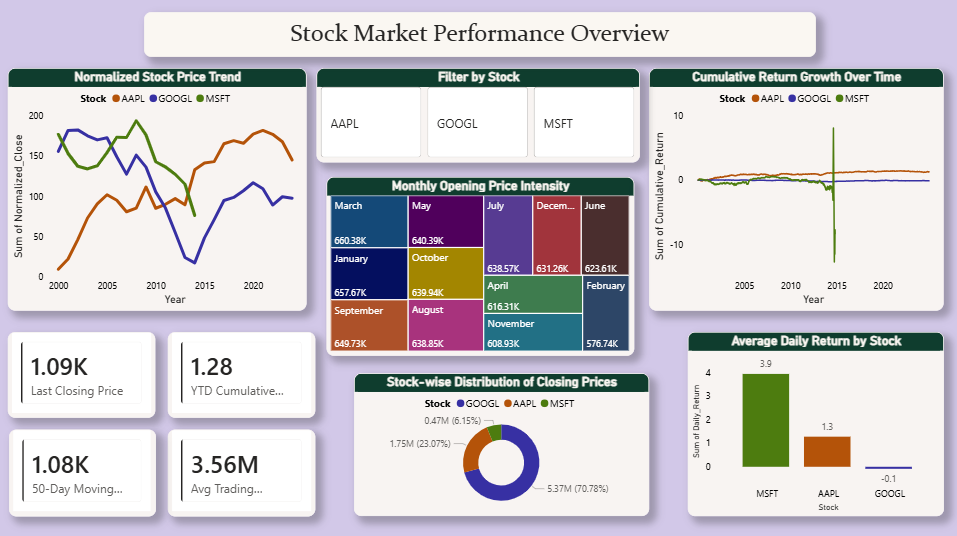

This screenshot's page, from the dashboard's own definition file:
{"tool":"powerbi","page":{"name":"Stock Market Performance Overview","canvas":[1280,720],"ordinal":0},"visuals":[{"type":"lineChart","title":"Normalized Stock Price Trend","fields":{"Category":["cleaned_stock_analytics.Date.Variation.Date Hierarchy.Year","cleaned_stock_analytics.Date.Variation.Date Hierarchy.Quarter","cleaned_stock_analytics.Date.Variation.Date Hierarchy.Month","cleaned_stock_analytics.Date.Variation.Date Hierarchy.Day"],"Series":["cleaned_stock_analytics.Stock"],"Y":["Sum(cleaned_stock_analytics.Normalized_Close)"]},"box":[11.4,94.3,398.6,322.9],"z":0},{"type":"areaChart","title":"Cumulative Return Growth Over Time","fields":{"Series":["cleaned_stock_analytics.Stock"],"Y":["Sum(cleaned_stock_analytics.Cumulative_Return)"],"Category":["cleaned_stock_analytics.Date.Variation.Date Hierarchy.Year","cleaned_stock_analytics.Date.Variation.Date Hierarchy.Quarter","cleaned_stock_analytics.Date.Variation.Date Hierarchy.Month","cleaned_stock_analytics.Date.Variation.Date Hierarchy.Day"]},"box":[867.1,94.3,392.9,322.9],"z":1000},{"type":"clusteredColumnChart","title":"Average Daily Return by Stock","fields":{"Category":["cleaned_stock_analytics.Stock"],"Y":["Sum(cleaned_stock_analytics.Daily_Return)"]},"box":[918.6,447.1,341.4,245.7],"z":2000},{"type":"advancedSlicerVisual","title":"Filter by Stock","fields":{"Values":["cleaned_stock_analytics.Stock"]},"box":[422.9,94.3,431.4,125.7],"z":3000},{"type":"cardVisual","title":"Normalized Stock Price Trend","fields":{"Data":["cleaned_stock_analytics.Last Closing Price"]},"box":[11.4,447.1,197.1,114.3],"z":4000},{"type":"cardVisual","title":"Normalized Stock Price Trend","fields":{"Data":["cleaned_stock_analytics.Cumulative Return (Last)"]},"box":[225.7,447.1,197.1,114.3],"z":5000},{"type":"cardVisual","title":"Normalized Stock Price Trend","fields":{"Data":["Avg(cleaned_stock_analytics.Volume)"]},"box":[225.7,577.1,197.1,115.7],"z":6000},{"type":"cardVisual","title":"Normalized Stock Price Trend","fields":{"Data":["cleaned_stock_analytics.Last MA_50"]},"box":[12.9,577.1,195.7,115.7],"z":7000},{"type":"donutChart","title":"Stock-wise Distribution of Closing Prices","fields":{"Category":["cleaned_stock_analytics.Stock"],"Y":["Sum(cleaned_stock_analytics.Close)"]},"box":[507.1,501.4,318.6,191.4],"z":8000},{"type":"treemap","title":"Monthly Opening Price Intensity","fields":{"Values":["Sum(cleaned_stock_analytics.Open)"],"Group":["cleaned_stock_analytics.Date.Variation.Date Hierarchy.Month","cleaned_stock_analytics.Date.Variation.Date Hierarchy.Day"]},"box":[437.1,240,410,238.6],"z":9000},{"type":"textbox","box":[192.9,20,895.7,60],"z":10000}]}

Visuals, with their boxes in screenshot pixels (x1, y1, x2, y2), scaled from the page's 1280x720 canvas onto the 957x536 screenshot:
"Normalized Stock Price Trend" lineChart: box=[9, 70, 307, 311]
"Cumulative Return Growth Over Time" areaChart: box=[648, 70, 942, 311]
"Average Daily Return by Stock" clusteredColumnChart: box=[687, 333, 942, 516]
"Filter by Stock" advancedSlicerVisual: box=[316, 70, 639, 164]
"Normalized Stock Price Trend" cardVisual: box=[9, 333, 156, 418]
"Normalized Stock Price Trend" cardVisual: box=[169, 333, 316, 418]
"Normalized Stock Price Trend" cardVisual: box=[169, 430, 316, 516]
"Normalized Stock Price Trend" cardVisual: box=[10, 430, 156, 516]
"Stock-wise Distribution of Closing Prices" donutChart: box=[379, 373, 617, 516]
"Monthly Opening Price Intensity" treemap: box=[327, 179, 633, 356]
textbox: box=[144, 15, 814, 60]
